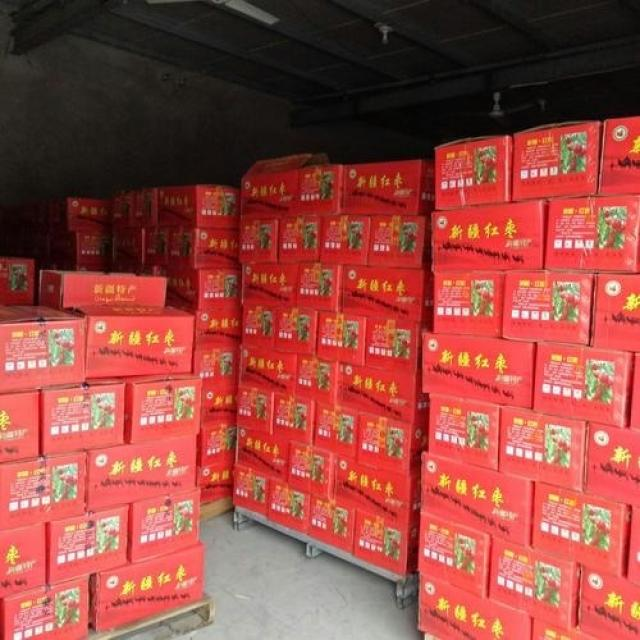box: (422, 452, 535, 549), (90, 544, 204, 631), (532, 481, 632, 577), (64, 305, 195, 376), (422, 332, 534, 410), (88, 434, 197, 512), (431, 198, 549, 270), (534, 342, 631, 428), (490, 539, 581, 630), (500, 404, 588, 493), (419, 572, 530, 640), (0, 305, 84, 393), (544, 195, 640, 271), (513, 122, 602, 200), (40, 376, 125, 456), (0, 452, 87, 530), (503, 270, 593, 344), (46, 503, 128, 584), (241, 154, 343, 219), (334, 453, 421, 529), (419, 511, 489, 598), (122, 372, 202, 444), (0, 575, 88, 640), (435, 136, 513, 209), (127, 488, 200, 563), (428, 394, 499, 471), (38, 269, 168, 311), (340, 159, 435, 216), (340, 364, 429, 424), (343, 265, 434, 323), (577, 564, 640, 640), (434, 269, 504, 337), (357, 411, 428, 476), (586, 422, 640, 507), (355, 508, 420, 576), (591, 271, 640, 351), (366, 317, 434, 374), (157, 184, 241, 229), (369, 214, 431, 271), (596, 116, 640, 195), (0, 522, 46, 596), (164, 269, 243, 308), (168, 228, 243, 269), (237, 428, 289, 484), (0, 390, 40, 462), (238, 346, 298, 394), (307, 495, 355, 554), (173, 307, 242, 348), (288, 440, 333, 502), (314, 401, 358, 461), (317, 311, 365, 366), (320, 215, 370, 265), (47, 197, 111, 234), (243, 264, 298, 307), (296, 355, 344, 404), (268, 479, 311, 532), (297, 264, 343, 312), (273, 393, 315, 445), (279, 216, 323, 264), (276, 307, 317, 355), (50, 230, 111, 262), (196, 458, 236, 506), (233, 463, 268, 516), (237, 385, 274, 435), (193, 347, 241, 385), (197, 424, 237, 467), (239, 218, 278, 262), (200, 384, 238, 428), (0, 256, 33, 306), (243, 305, 276, 349), (534, 618, 595, 640), (113, 227, 145, 266), (628, 506, 640, 584), (111, 188, 134, 228), (134, 188, 157, 227), (145, 228, 168, 265), (631, 355, 640, 430), (109, 266, 164, 276), (51, 264, 108, 271)
